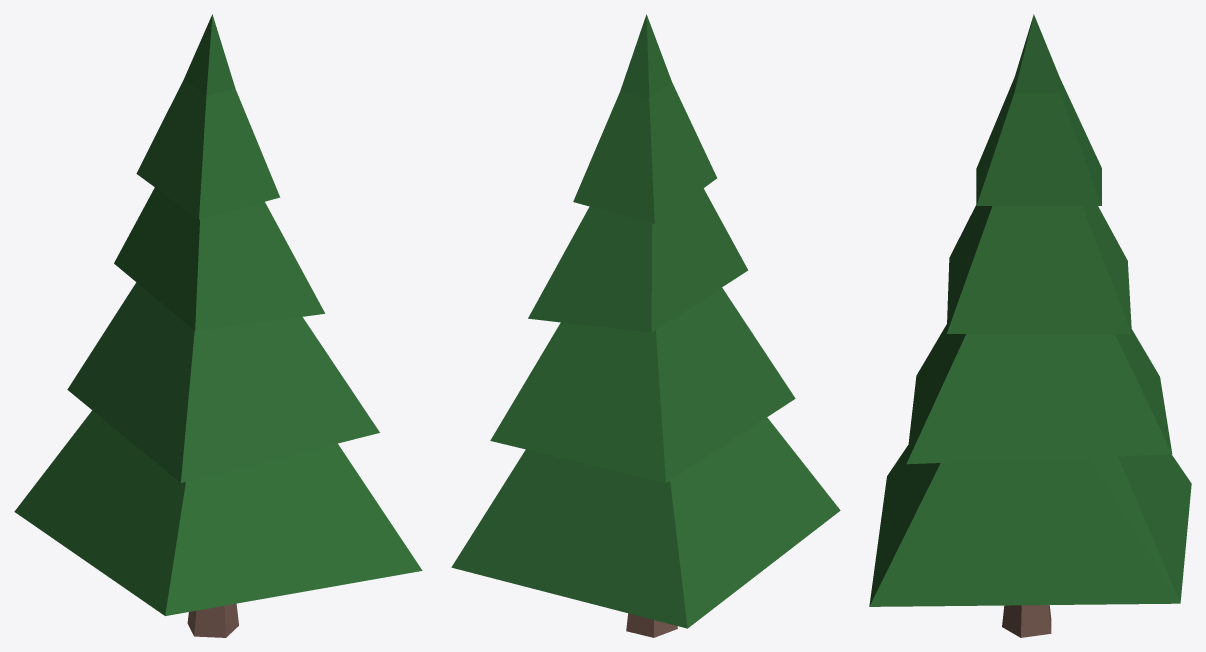
File: Arvore_conifer.fbx
The picture shows the model from 3 angles, left to right: view 1: azimuth 30°, elevation 25°; view 2: azimuth 150°, elevation 25°; view 3: azimuth 270°, elevation 25°; orthographic projection.
Parts seen in each view (by area): view 1: tree-conifer; view 2: tree-conifer; view 3: tree-conifer.
Boxes of the visible parts, x1,y1,x2,y2 form: tree-conifer: [14, 14, 422, 637]; tree-conifer: [451, 14, 840, 637]; tree-conifer: [869, 14, 1191, 637].
Size of the model in its own units: 244 by 574 by 273.
